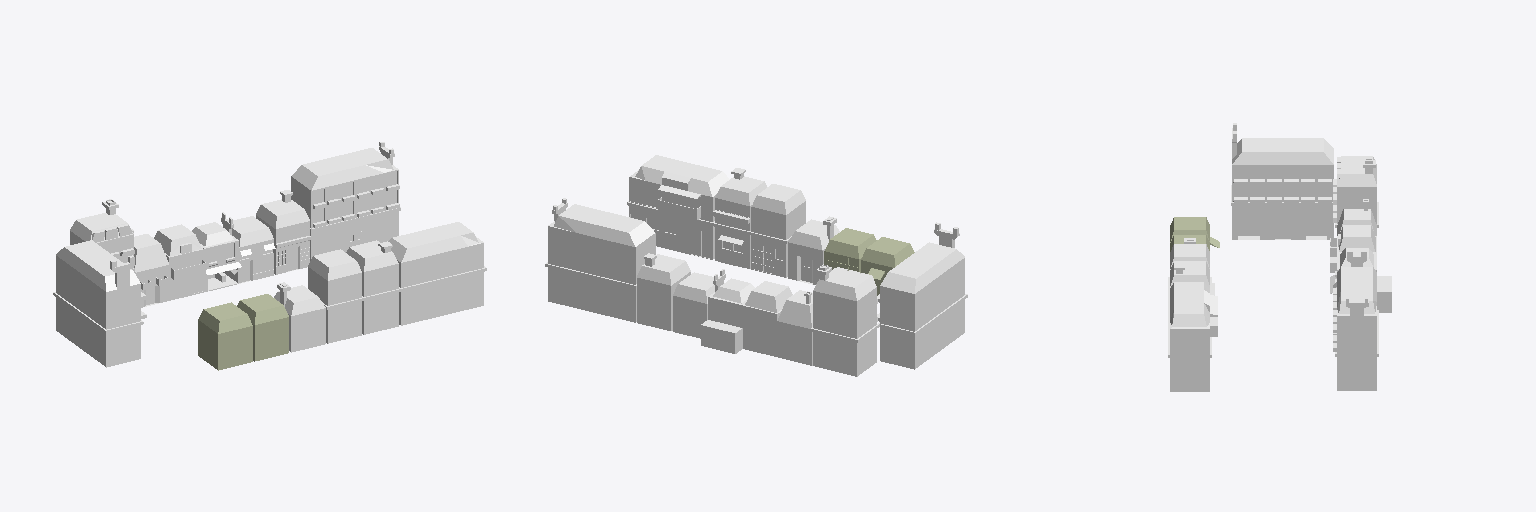
The model's file is building_17.obj.
3 views of the same model, side by side, from view 1: azimuth 30°, elevation 25°; view 2: azimuth 150°, elevation 25°; view 3: azimuth 270°, elevation 25° (orthographic).
Parts seen in each view (by area): view 1: Cube3_copy6, Cube3_copy8, Cube3_copy16, Cube3_copy14, Cube3_copy15, Cube3_copy11, Cube3_copy5, Cube2, Cube4, Cube3_copy13, Cube3_copy12, Cube3_copy7 (+2 smaller); view 2: Cube3_copy6, Cube3_copy8, Cube3_copy16, Cube3_copy7, Cube3_copy14, Cube3_copy15, Cube3_copy5, Cube4, Cube2, Cube3, Cube3_copy13, Cube3_copy4 (+2 smaller); view 3: Cube3_copy8, Cube3_copy6, Cube3_copy16, Cube3_copy7, Cube4, Cube2, Cube3_copy15, Cube3_copy11, Cube3_copy14, Cube3.
Part boxes in pixels (left/top/right/bottom): Cube3_copy6: left=291, top=142, right=400, bottom=260; Cube3_copy8: left=53, top=240, right=146, bottom=367; Cube3_copy16: left=388, top=222, right=486, bottom=325; Cube3_copy14: left=308, top=249, right=363, bottom=343; Cube3_copy15: left=346, top=240, right=400, bottom=334; Cube3_copy11: left=198, top=302, right=252, bottom=370; Cube3_copy5: left=256, top=190, right=310, bottom=274; Cube2: left=154, top=224, right=205, bottom=300; Cube4: left=192, top=212, right=241, bottom=291; Cube3_copy13: left=274, top=282, right=325, bottom=352; Cube3_copy12: left=237, top=294, right=288, bottom=361; Cube3_copy7: left=70, top=199, right=135, bottom=273; Cube3_copy6: left=545, top=198, right=655, bottom=322; Cube3_copy8: left=877, top=222, right=967, bottom=369; Cube3_copy16: left=627, top=155, right=729, bottom=259; Cube3_copy7: left=810, top=264, right=879, bottom=376; Cube3_copy14: left=751, top=184, right=805, bottom=277; Cube3_copy15: left=713, top=168, right=766, bottom=268; Cube3_copy5: left=637, top=253, right=690, bottom=330; Cube4: left=701, top=269, right=754, bottom=353; Cube2: left=743, top=281, right=792, bottom=356; Cube3: left=777, top=290, right=812, bottom=365; Cube3_copy13: left=788, top=216, right=839, bottom=284; Cube3_copy4: left=673, top=272, right=714, bottom=338; Cube3_copy8: left=1231, top=123, right=1333, bottom=239; Cube3_copy6: left=1333, top=267, right=1378, bottom=390; Cube3_copy16: left=1168, top=282, right=1217, bottom=391; Cube3_copy7: left=1333, top=156, right=1378, bottom=227; Cube4: left=1330, top=248, right=1391, bottom=312; Cube2: left=1330, top=225, right=1376, bottom=272; Cube3_copy15: left=1168, top=261, right=1214, bottom=312; Cube3_copy11: left=1170, top=217, right=1219, bottom=247; Cube3_copy14: left=1168, top=244, right=1211, bottom=295; Cube3: left=1330, top=199, right=1376, bottom=246.
Size of the model in its own units: 2759 by 779 by 1524.